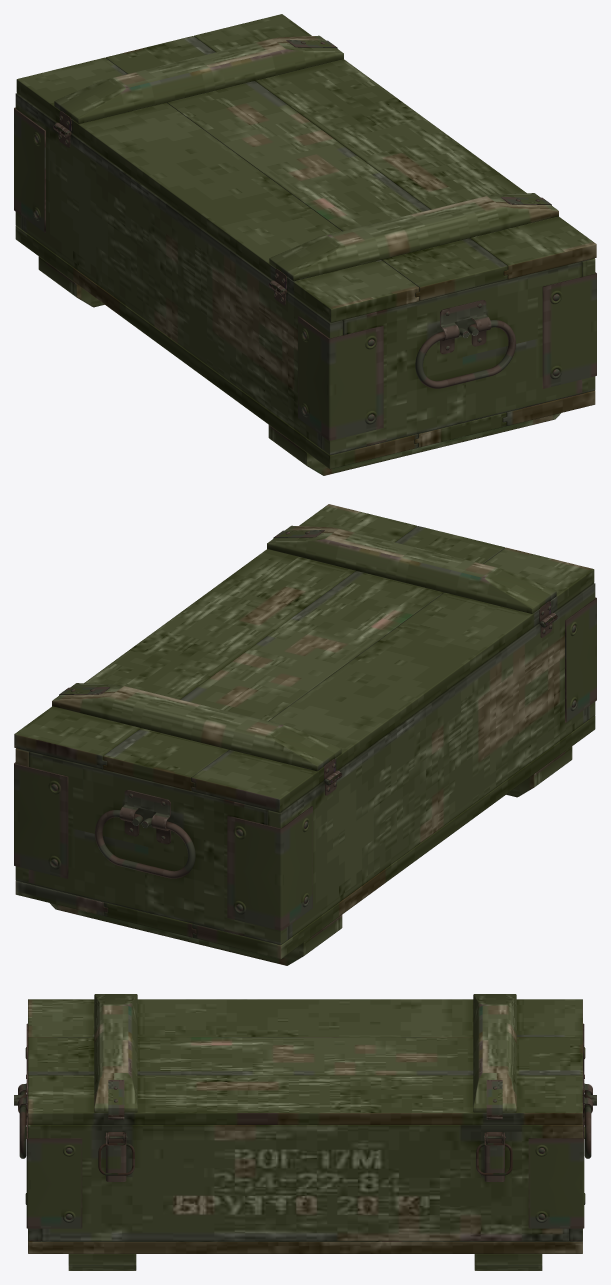
3 renders of one model, top to bottom at view 1: azimuth 30°, elevation 25°; view 2: azimuth 150°, elevation 25°; view 3: azimuth 270°, elevation 25°, orthographic. The views are drawn at different scales.
Visible parts, largest first — view 1: box_doors, box_case; view 2: box_doors, box_case; view 3: box_case, box_doors.
Part boxes in pixels (bbox=[...]): box_doors: bbox=[16, 14, 596, 322]; box_case: bbox=[14, 93, 596, 475]; box_doors: bbox=[14, 504, 594, 812]; box_case: bbox=[14, 583, 596, 965]; box_case: bbox=[14, 1023, 596, 1270]; box_doors: bbox=[28, 994, 582, 1124].
Size of the model in its own units: 0.7443 by 0.512 by 1.48.
1 material, 1 textured.
